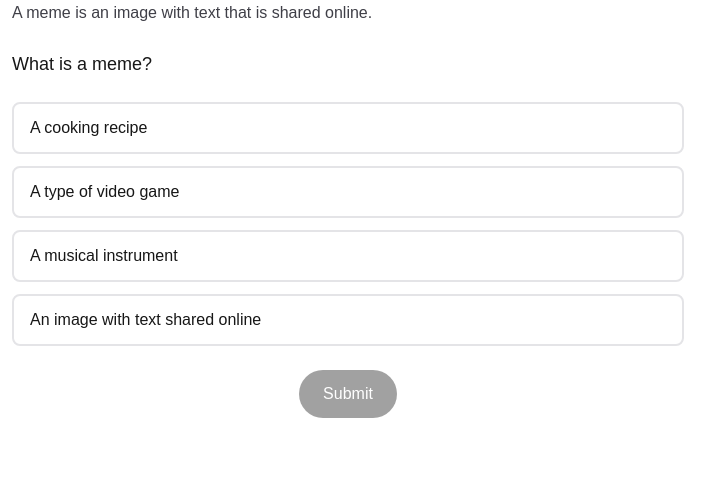
ComprehensionCheck › submitting a wrong answer shows the retry message
Check: the text "That is not correct. Please re-read the definition and try again." is not shown
Click the button "A type of video game" at (105, 192), box [12,166,684,218]
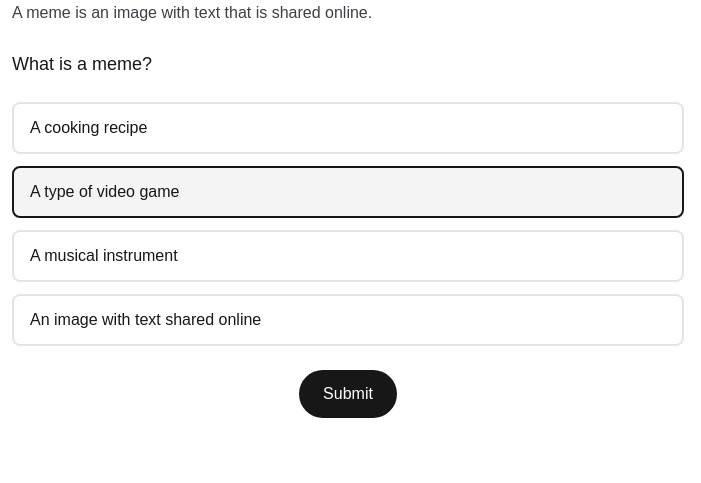
Click the button "Submit" at (348, 394), box [299,370,397,418]
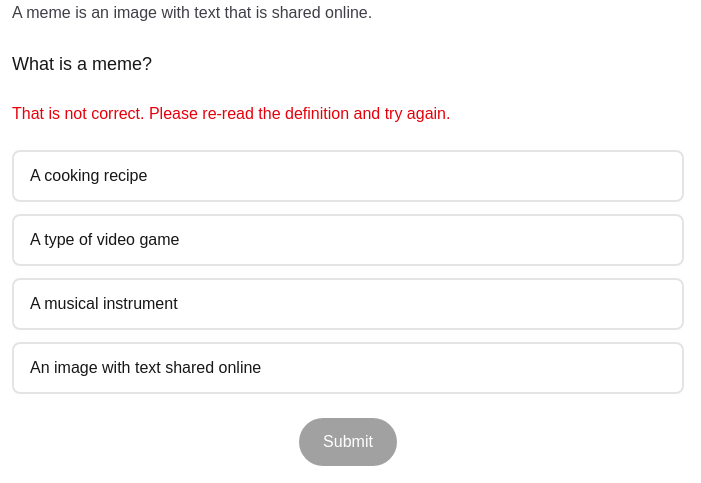
Check: the text "That is not correct. Please re-read the definition and try again." is shown, box [12,105,450,122]
